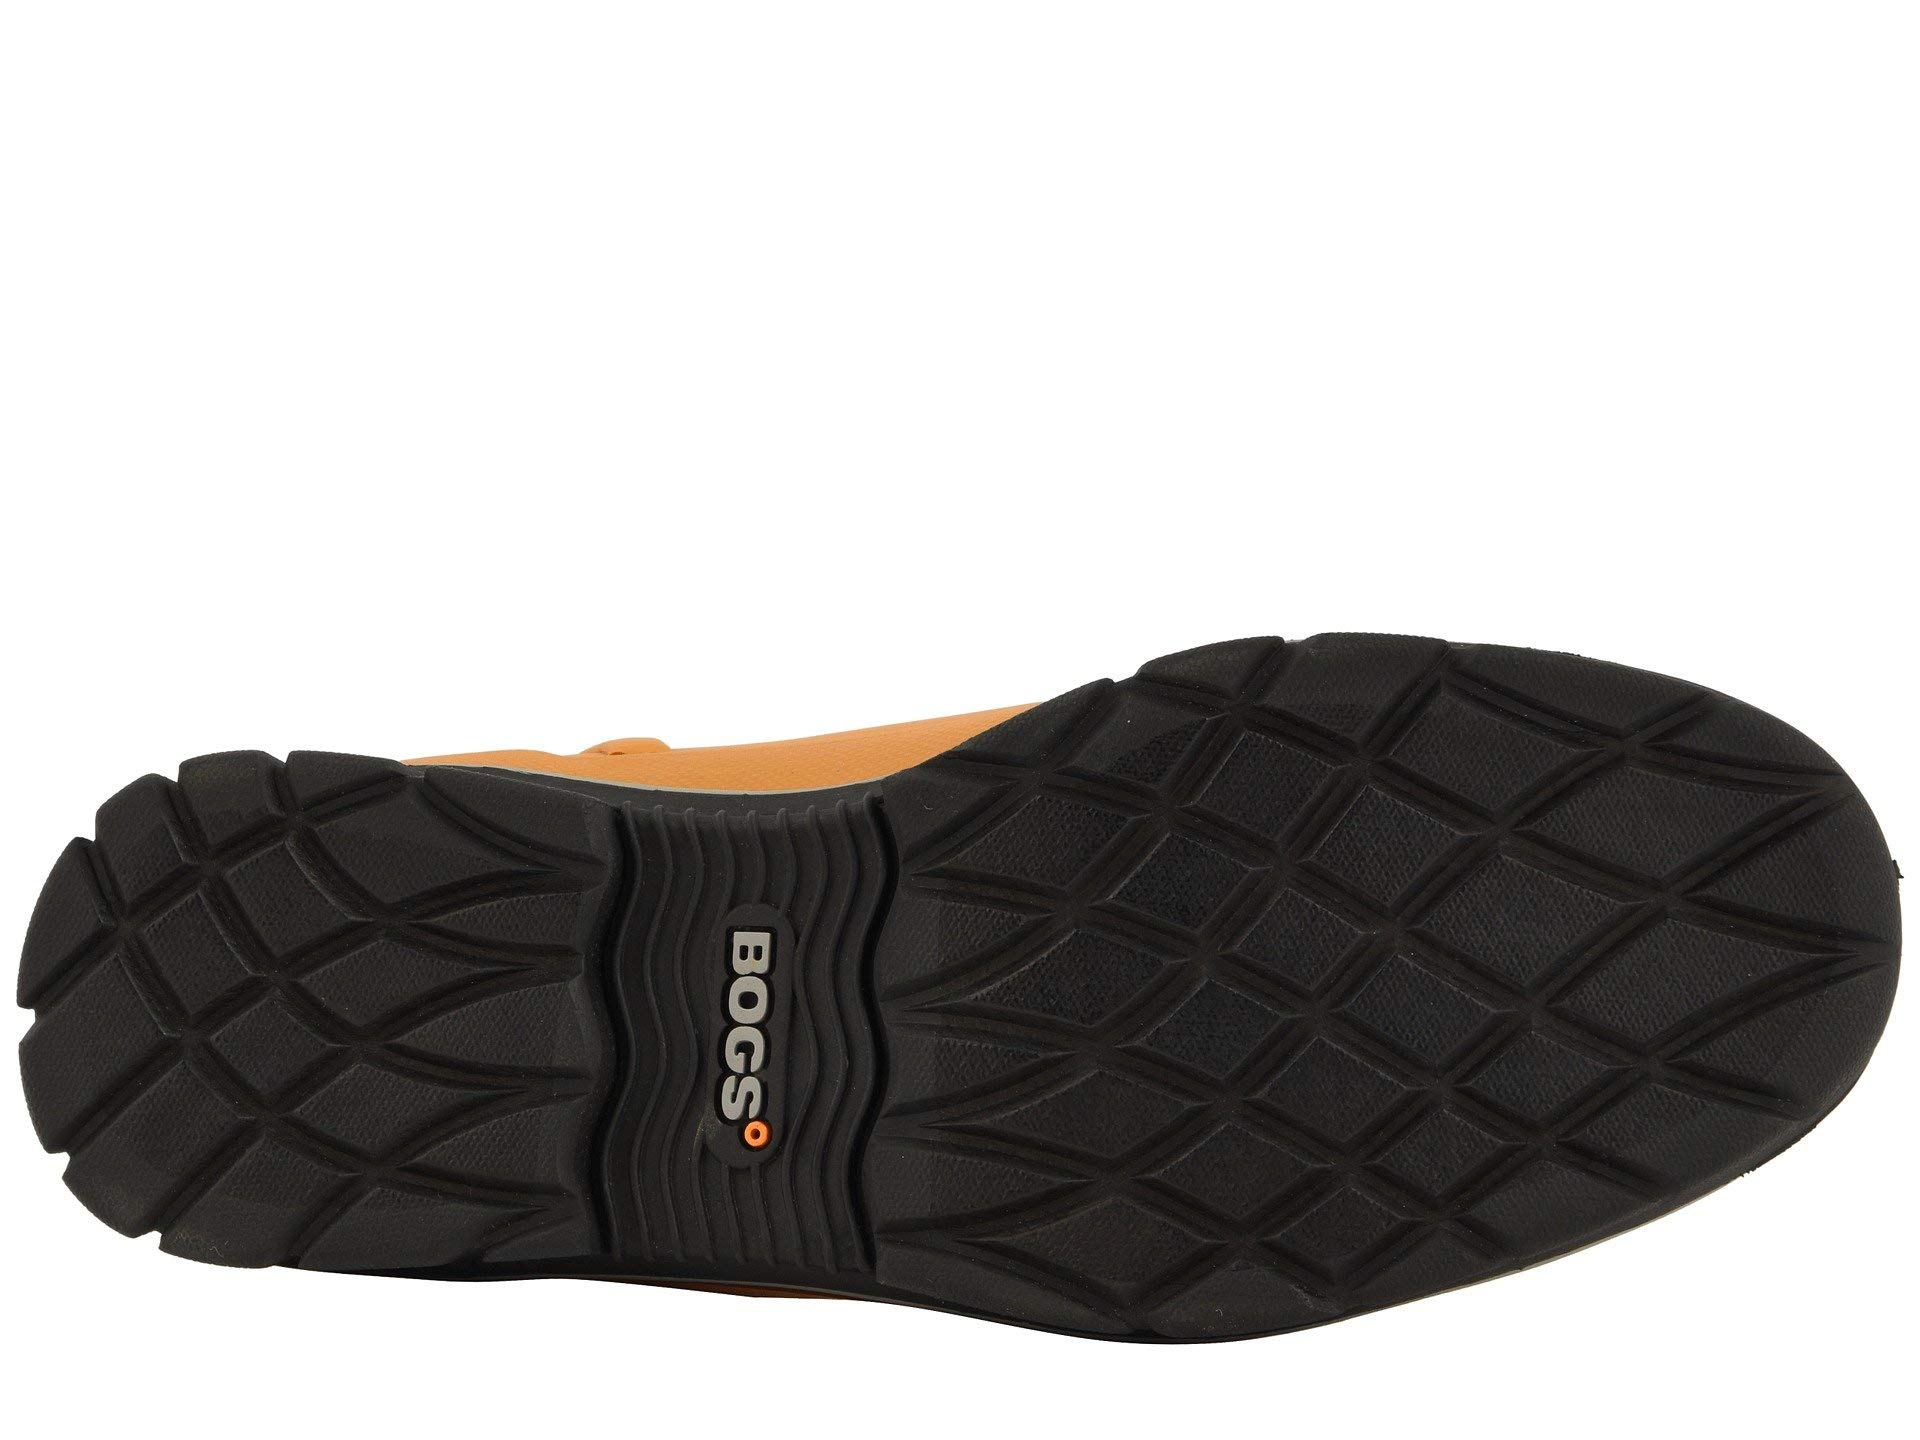circle: (677, 843, 810, 1212)
line: (1042, 649, 1899, 1181), (677, 843, 810, 1212)
quad: (1042, 649, 1899, 1181)
text: (677, 843, 810, 1212)
triangle: (1042, 649, 1899, 1181)
